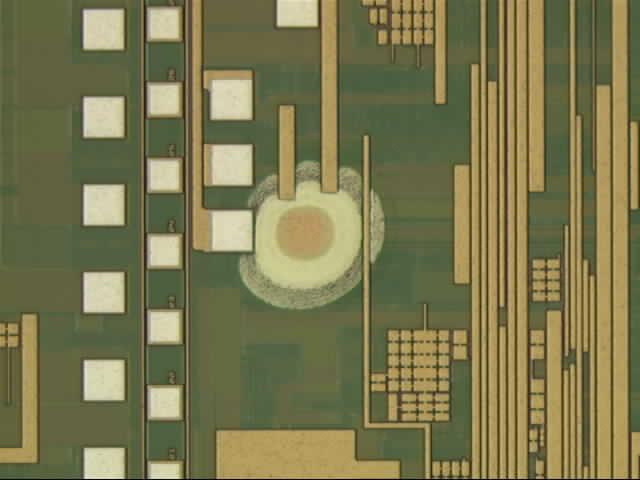BLOCK ETCH: (226, 152, 394, 319)
